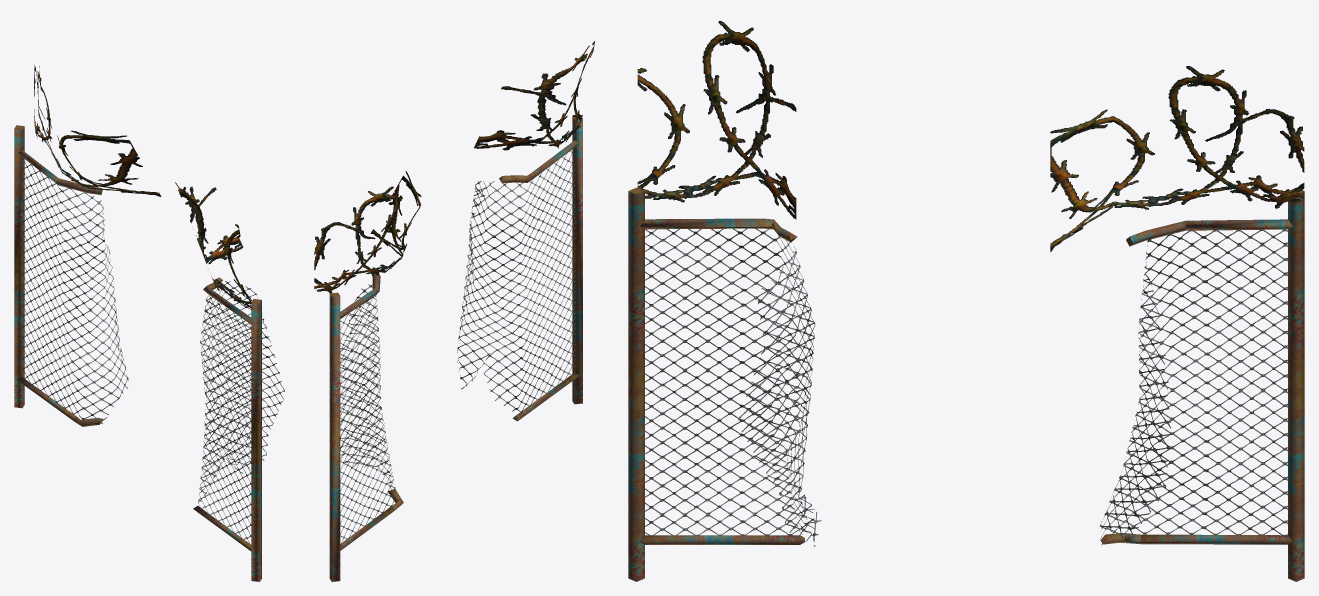
The model's file is Prop_Tsw05.glb.
3 views of the same model, side by side, from view 1: azimuth 30°, elevation 25°; view 2: azimuth 150°, elevation 25°; view 3: azimuth 270°, elevation 25° (orthographic). The views are drawn at different scales.
Visible parts, largest first — view 1: xiutz_tsw_05_0; view 2: xiutz_tsw_05_0; view 3: xiutz_tsw_05_0.
Boxes of the visible parts, x1,y1,x2,y2 form: xiutz_tsw_05_0: (14, 65, 284, 581); xiutz_tsw_05_0: (314, 41, 594, 581); xiutz_tsw_05_0: (628, 21, 1304, 581).
Bounding box in the file's own units: 2.13 × 7.28 × 8.32.
2 materials, 2 textured.
